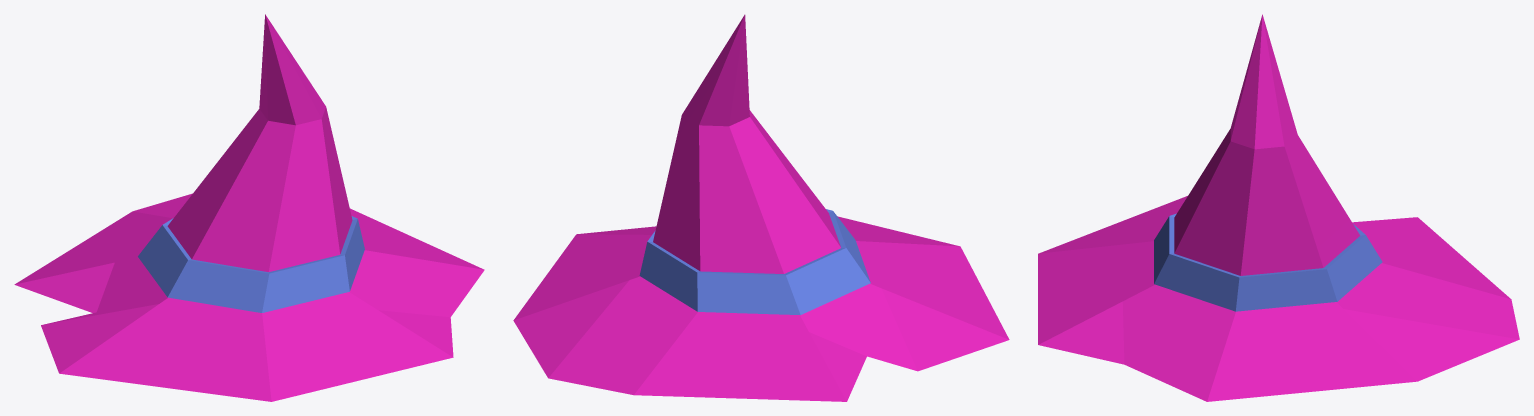
Rendered from LowPoly_WizardHat.fbx.
The picture shows the model from 3 angles, left to right: view 1: azimuth 30°, elevation 25°; view 2: azimuth 150°, elevation 25°; view 3: azimuth 270°, elevation 25°; orthographic projection. The views are drawn at different scales.
Parts seen in each view (by area): view 1: Circle; view 2: Circle; view 3: Circle.
Part boxes in pixels (<box>): Circle: <box>14,14,484,401</box>; Circle: <box>513,14,1009,401</box>; Circle: <box>1038,14,1519,401</box>.
Bounding box in the file's own units: 295 × 310 × 197.
